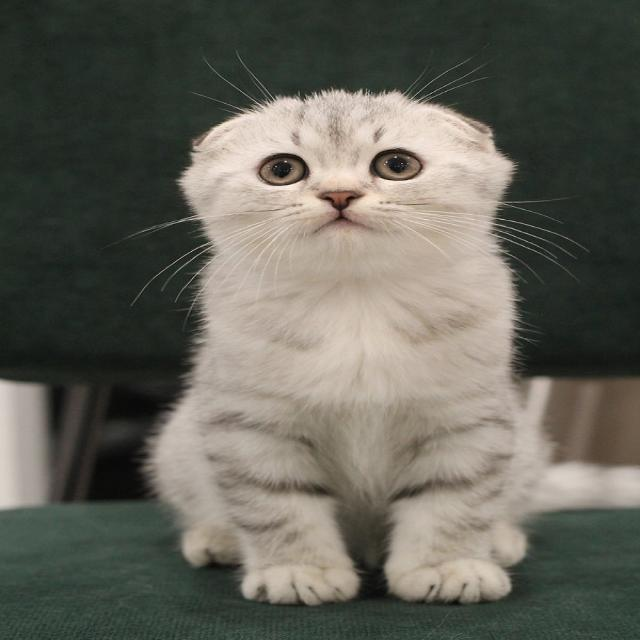Scottish Fold: (140, 88, 562, 610)
